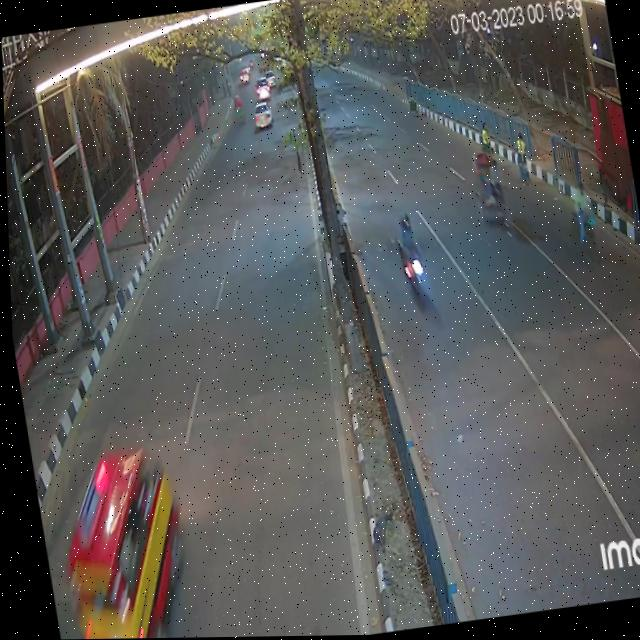rikshaw: (467, 145, 520, 243), (230, 89, 247, 127)
